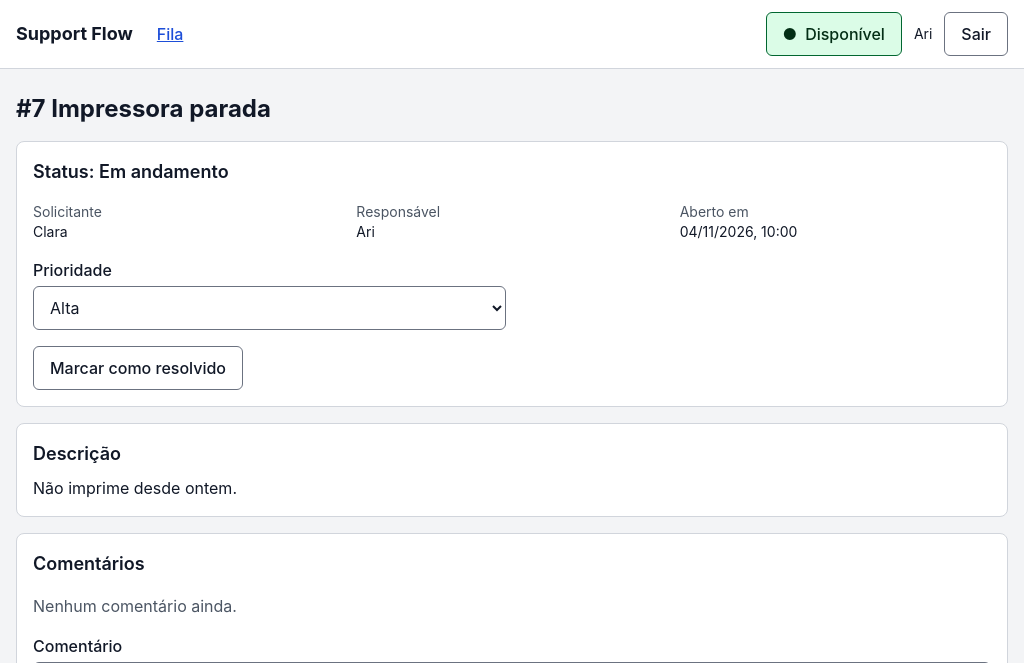
Test: ticket › transição recusada com 403 recarrega o ticket e explica
Click the button "Marcar como resolvido" at {"x": 138, "y": 368}, box [33, 346, 243, 390]
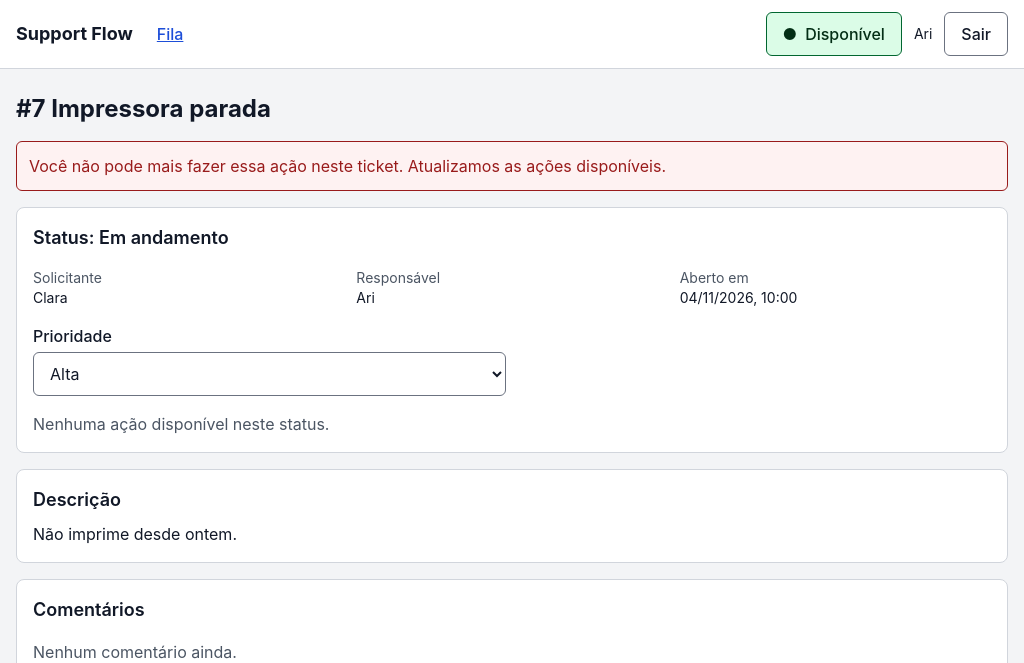
Check: the message shows "Você não pode mais fazer essa ação neste ticket.", box [29, 156, 666, 176]
Check: the text "Nenhuma ação disponível neste status." is shown, box [33, 414, 330, 434]
